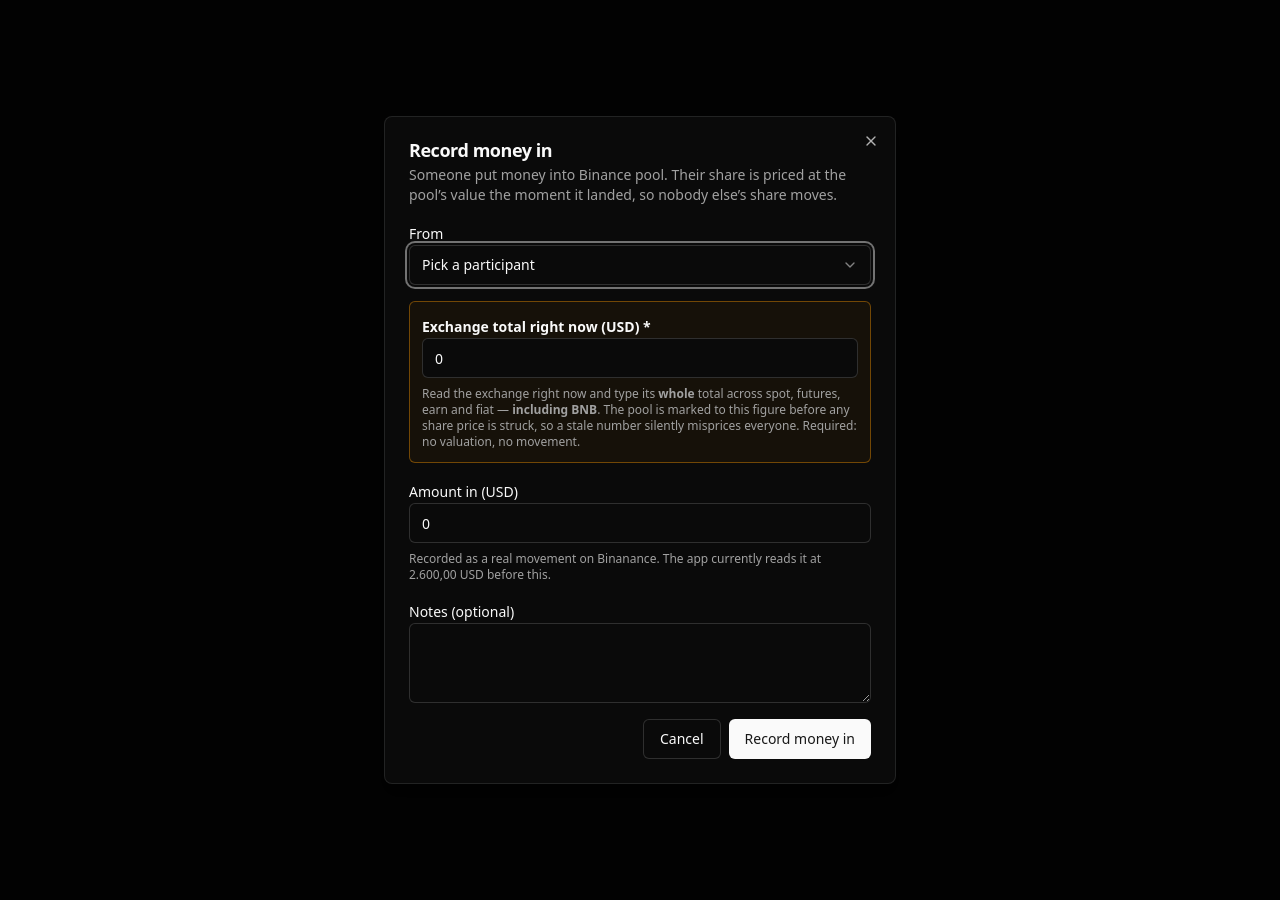
Test case: RecordSubscriptionDialog › requires a participant
Replace the text in the number field with test id "subscription-pool-value-input" with "2500" at x=640, y=358, box [422,338,858,378]
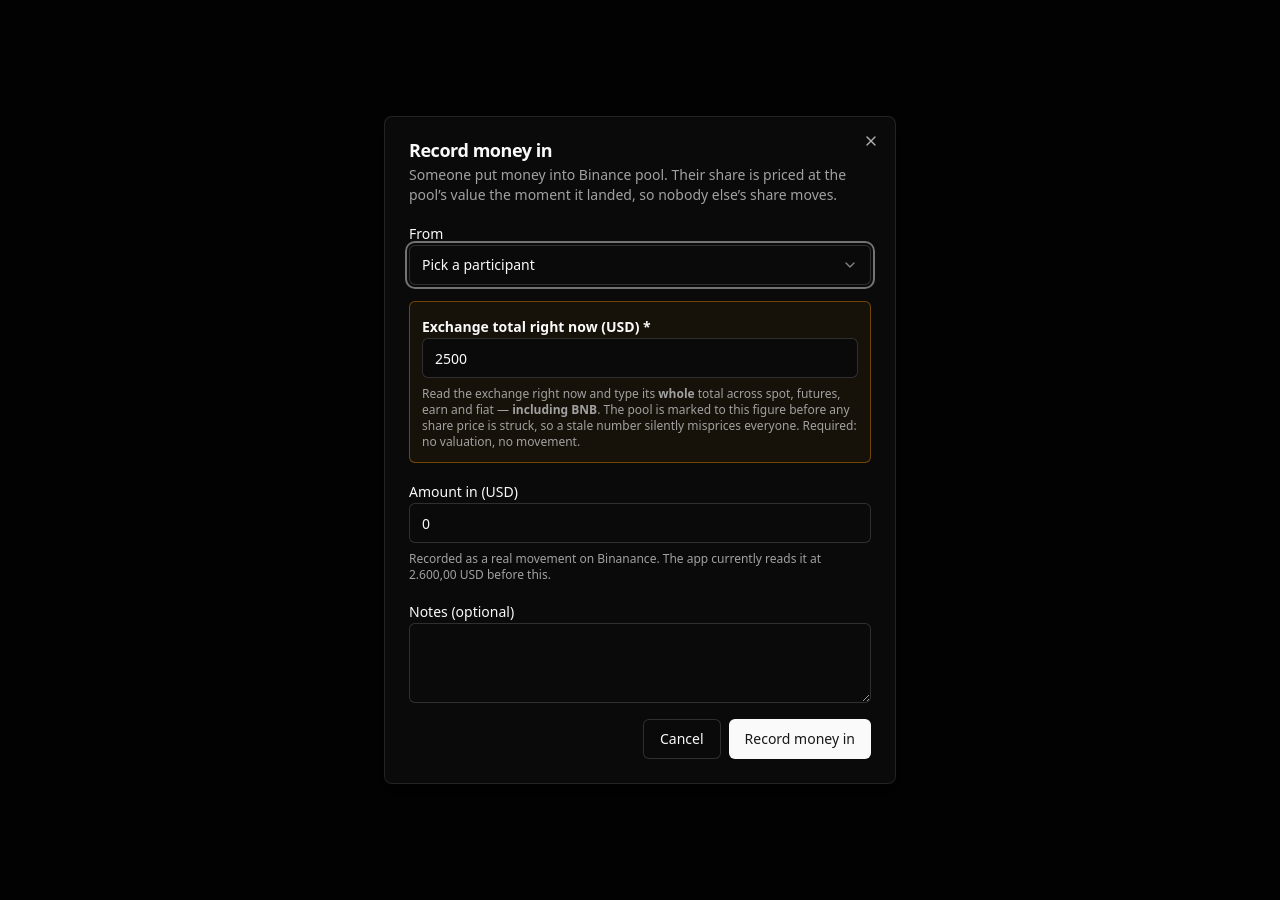
Replace the text in the number field with test id "subscription-cash-input" with "100" at x=640, y=523, box [409,503,871,543]
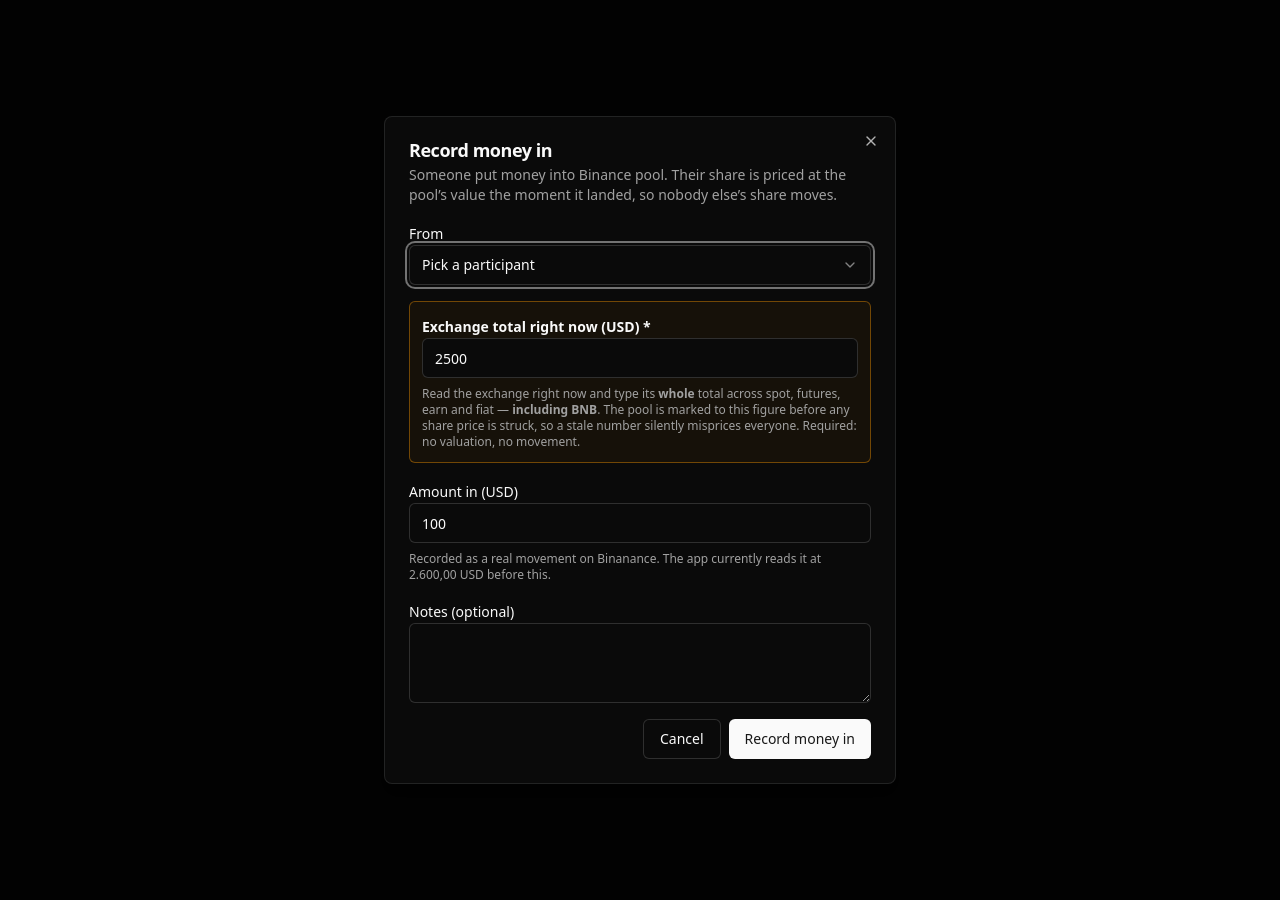
Click the button with test id "subscription-submit-button" at x=800, y=739, box [729,719,871,759]
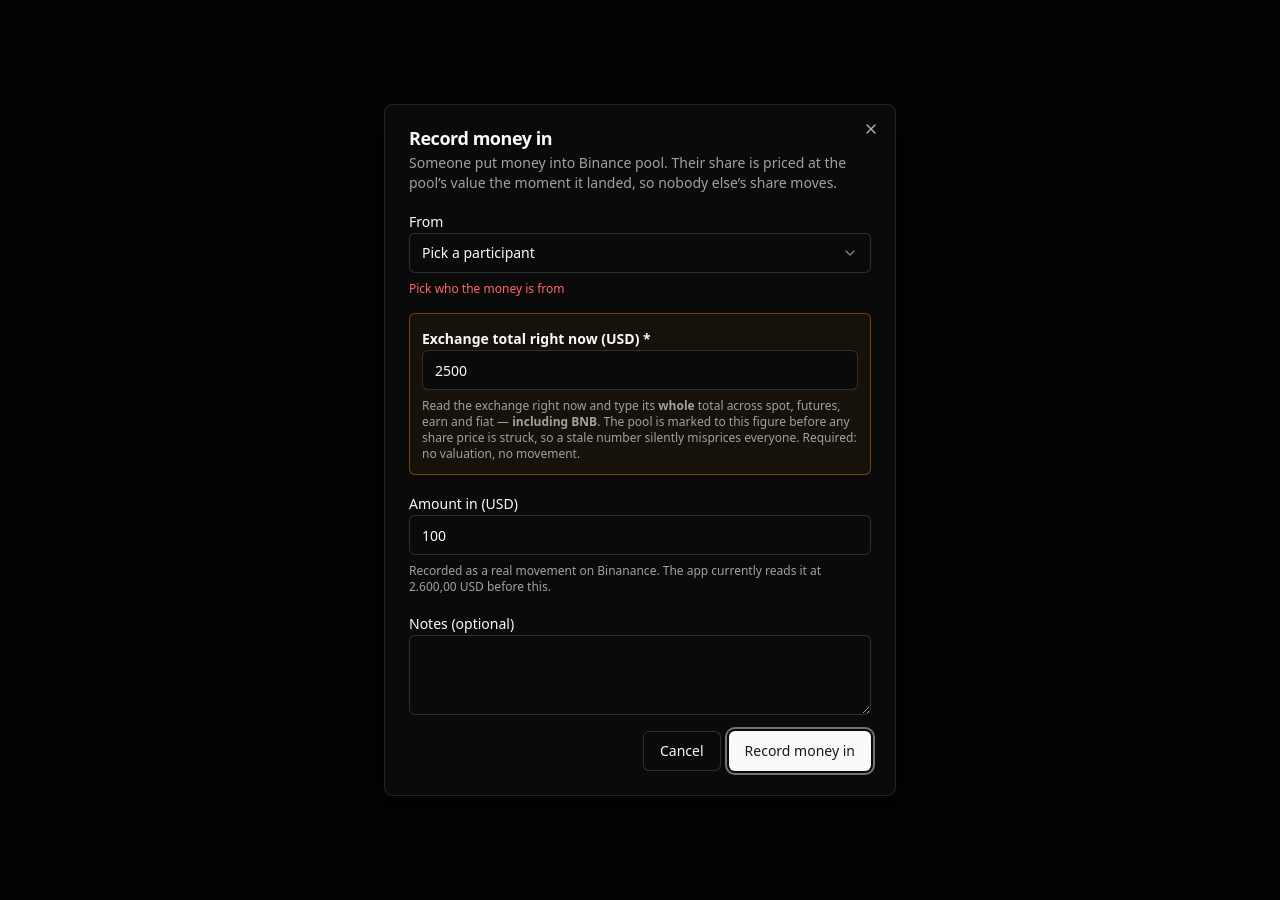
Now the message with test id "subscription-participant-error" reads "Pick who the money is from", box [409,280,564,297]
